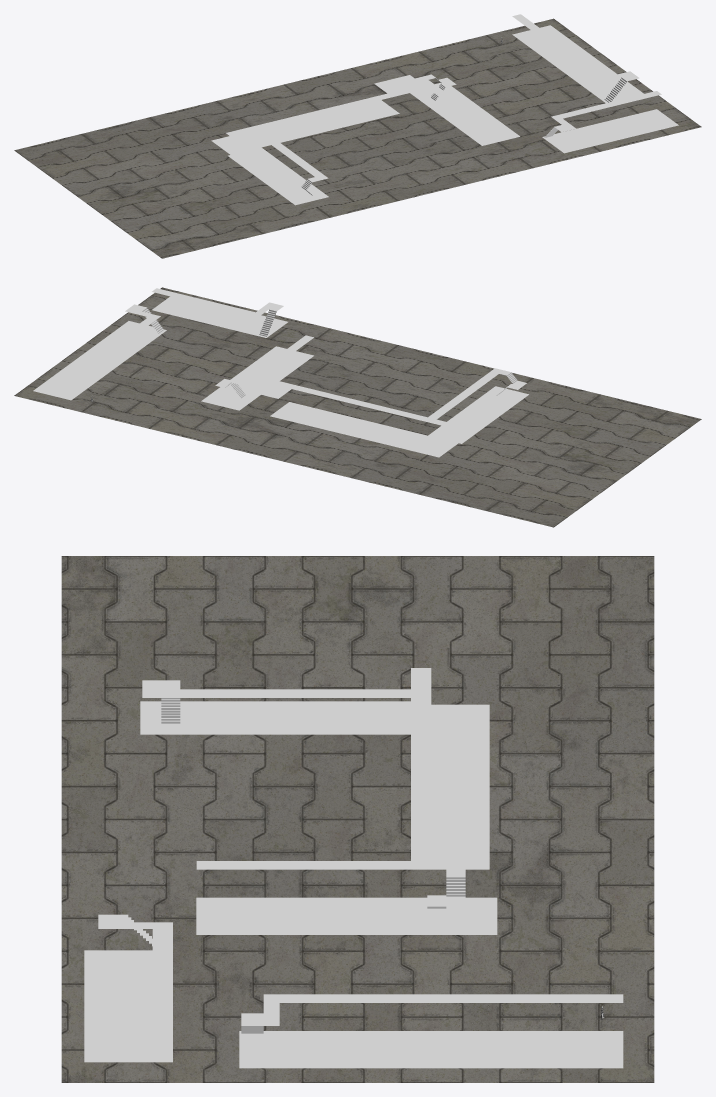
File: walkable_ground.fbx
3 views of the same model, one above another, from view 1: azimuth 30°, elevation 25°; view 2: azimuth 150°, elevation 25°; view 3: azimuth 270°, elevation 25° (orthographic). The views are drawn at different scales.
Visible parts, largest first — view 1: Plane.002, Cube.041; view 2: Plane.002, Cube.041; view 3: Plane.002, Cube.041.
Boxes of the visible parts, <box> form: Plane.002: <box>14,18,701,258</box>; Cube.041: <box>211,14,678,205</box>; Plane.002: <box>14,287,701,527</box>; Cube.041: <box>33,288,528,457</box>; Plane.002: <box>61,556,654,1082</box>; Cube.041: <box>84,668,623,1068</box>.
Size of the model in its own units: 30885 by 1100 by 14681.
